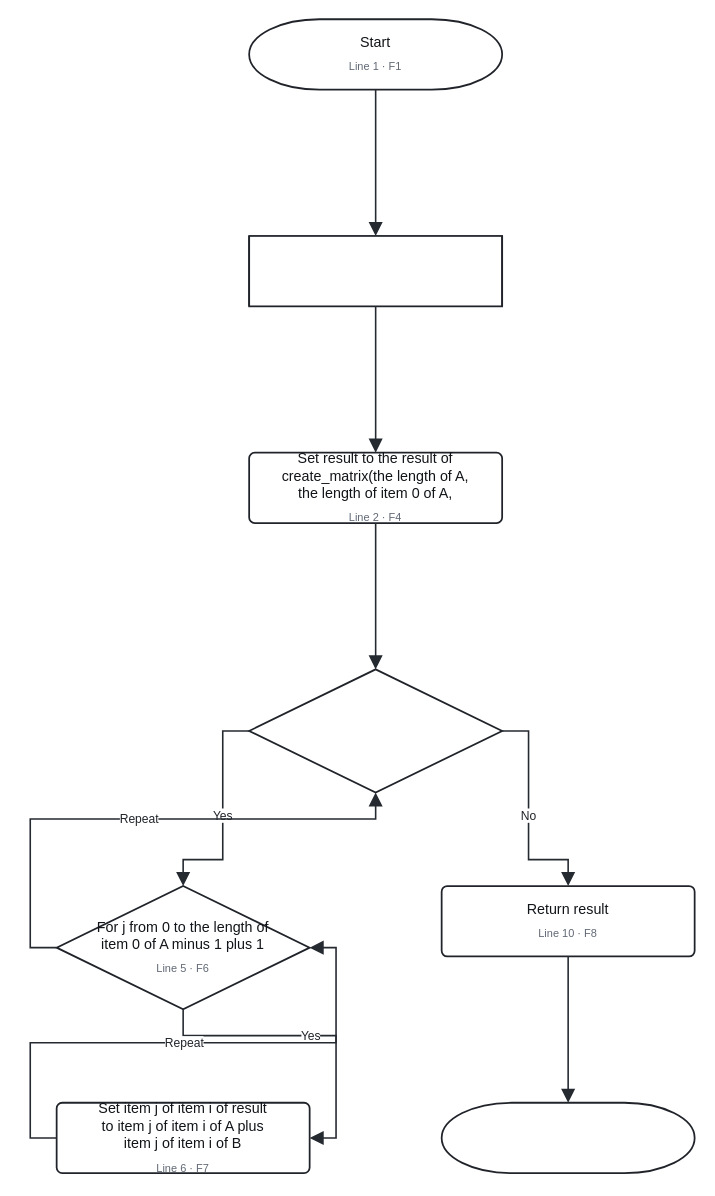
The diagram is 715 pixels wide and 1196 high, and some of its shapes have lost their labels. Each missing label, with the centre of its shape:
"End Line 1 · F2" belongs at point 567,1137.
"For i from 0 to the length of A minus 1 plus 1 Line 4 · F5" belongs at point 375,730.
"Run function unnamed_function with A, B Line 1 · F3" belongs at point 375,271.
